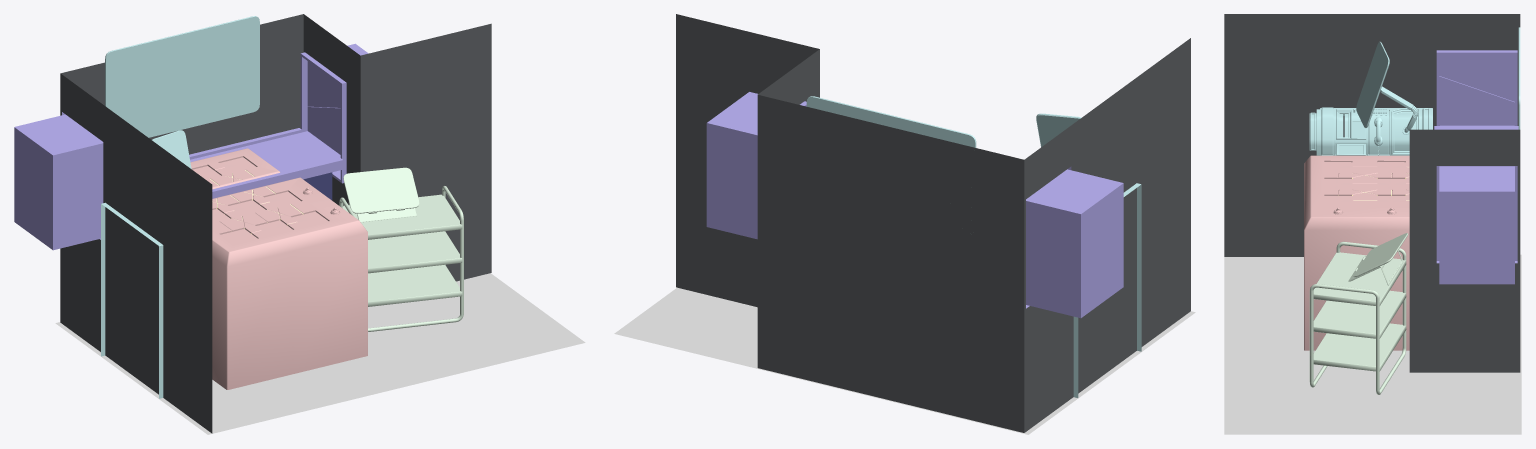
File: SM_FullSceneV3.fbx
3 renders of one model, left to right at view 1: azimuth 30°, elevation 25°; view 2: azimuth 150°, elevation 25°; view 3: azimuth 270°, elevation 25°, orthographic. The views are drawn at different scales.
Visible parts, largest first — view 1: SM_Mur, SM_BoardAllie, SM_Sol, SM_Meuble, SM_Tapis_01, SM_Chariot, SM_BoardEnnemi, SM_TapisPorte_Down, SM_TapisPorte_Up; view 2: SM_Mur, SM_Tapis_01, SM_Sol, SM_Meuble; view 3: SM_Mur, SM_Sol, SM_BoardAllie, SM_Tapis_01, SM_Chariot, SM_Meuble, SM_TapisPorte_Down, SM_TapisPorte_Up.
Boxes of the visible parts, <box> form: SM_Mur: <box>60,14,491,433</box>; SM_BoardAllie: <box>212,177,367,389</box>; SM_Sol: <box>55,273,585,434</box>; SM_Meuble: <box>101,16,259,398</box>; SM_Tapis_01: <box>14,43,368,250</box>; SM_Chariot: <box>339,167,463,331</box>; SM_BoardEnnemi: <box>190,148,280,189</box>; SM_TapisPorte_Down: <box>307,106,340,154</box>; SM_TapisPorte_Up: <box>307,61,340,107</box>; SM_Mur: <box>676,14,1190,432</box>; SM_Tapis_01: <box>706,92,1123,318</box>; SM_Sol: <box>614,287,1195,434</box>; SM_Meuble: <box>806,96,1141,397</box>; SM_Mur: <box>1224,14,1520,372</box>; SM_Sol: <box>1224,254,1521,434</box>; SM_BoardAllie: <box>1304,155,1409,350</box>; SM_Tapis_01: <box>1434,50,1518,284</box>; SM_Chariot: <box>1309,233,1408,394</box>; SM_Meuble: <box>1309,27,1520,155</box>; SM_TapisPorte_Down: <box>1439,76,1514,125</box>; SM_TapisPorte_Up: <box>1439,55,1514,101</box>.
Bounding box in the file's own units: 330 × 206 × 194.
